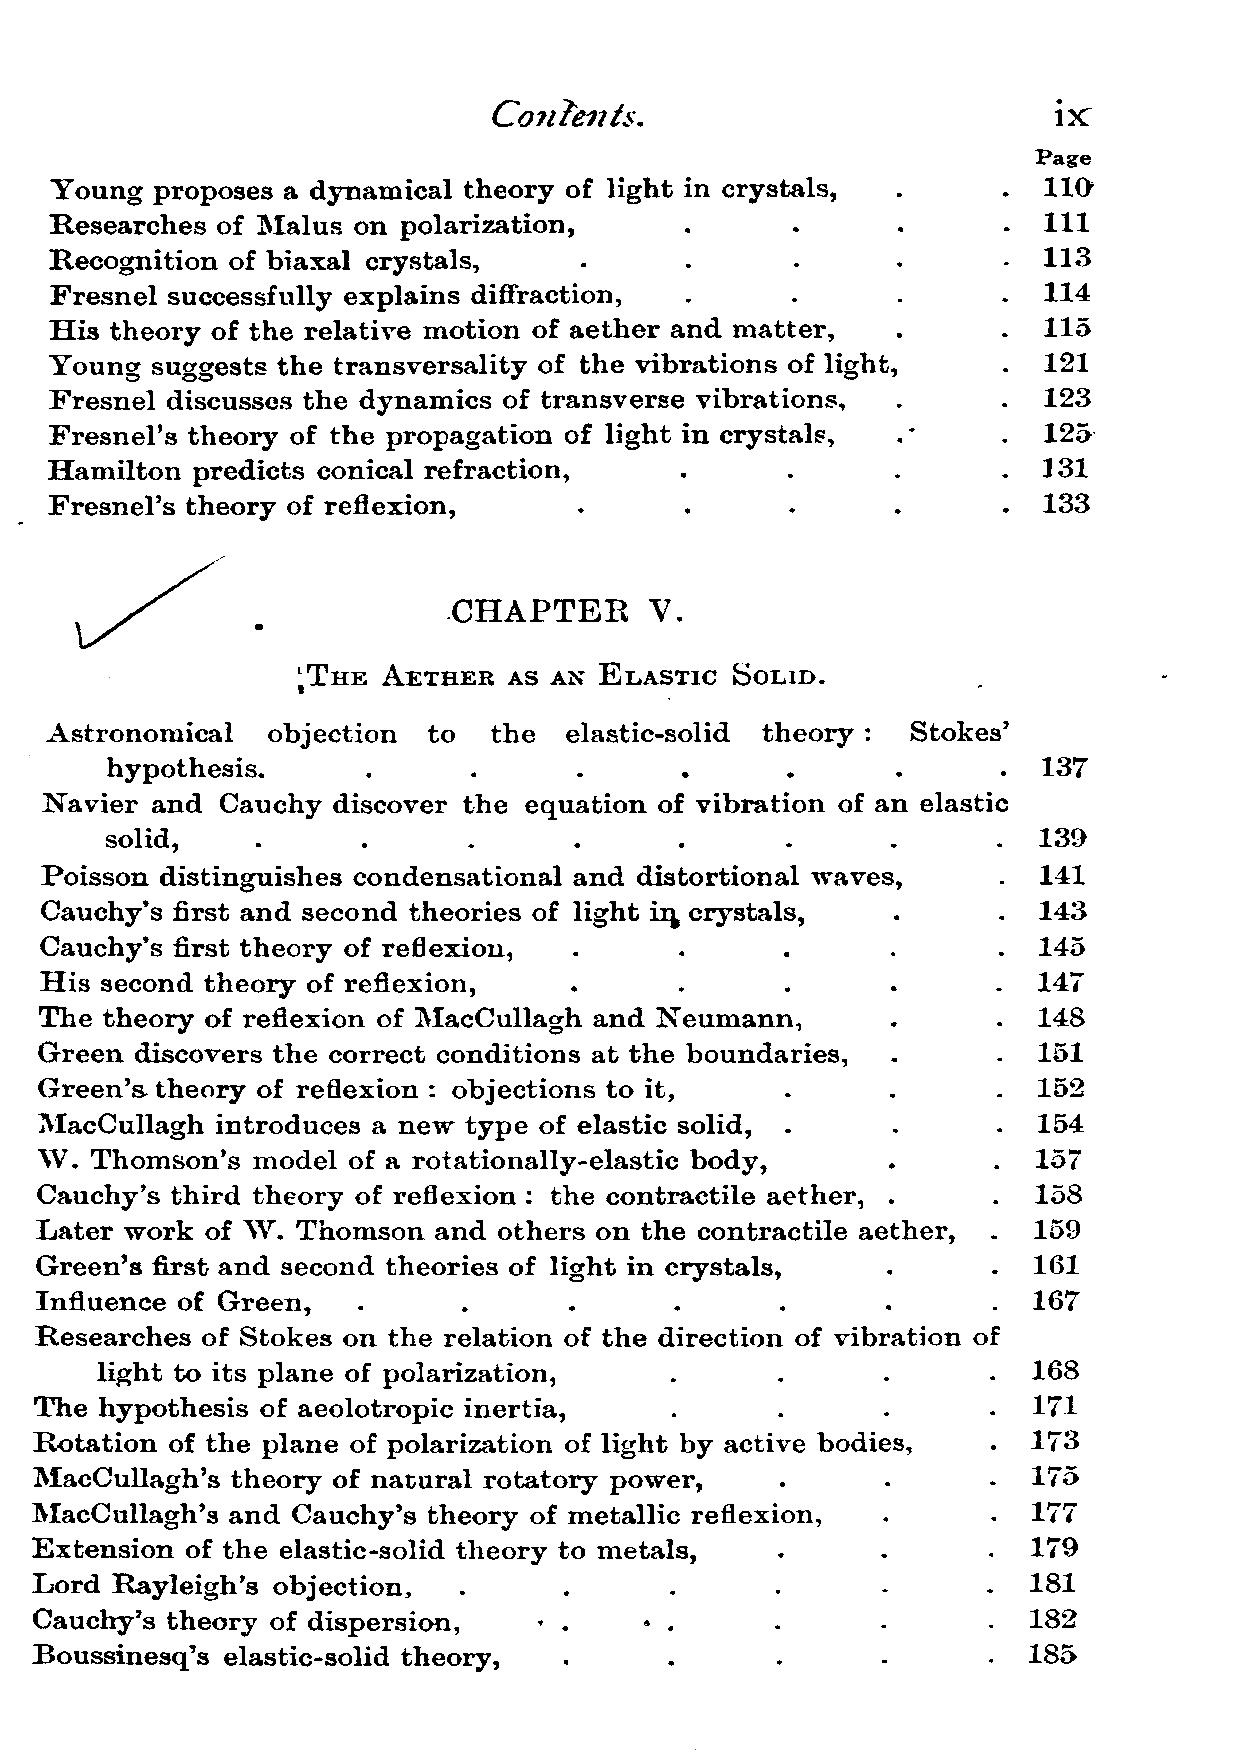TOC_chapter: (32, 1319, 1005, 1388), (39, 788, 1012, 851), (46, 717, 1015, 780), (305, 582, 832, 688), (32, 854, 906, 896), (46, 166, 837, 207), (30, 1427, 915, 1461), (30, 1496, 823, 1531), (32, 1037, 851, 1071), (35, 1219, 957, 1248), (39, 348, 899, 378), (32, 1245, 778, 1280), (38, 313, 837, 345), (34, 1145, 772, 1180), (34, 1181, 867, 1212), (32, 1107, 758, 1141), (35, 1002, 807, 1033), (24, 1533, 703, 1567), (46, 420, 837, 450), (44, 386, 851, 415), (36, 900, 809, 929), (30, 1388, 570, 1427), (28, 1463, 707, 1494), (31, 1074, 675, 1104), (43, 278, 633, 309), (42, 208, 578, 242), (31, 1640, 505, 1675), (46, 452, 573, 483), (35, 931, 513, 962), (46, 488, 459, 522), (34, 965, 480, 996), (46, 244, 480, 275), (30, 1606, 464, 1637), (27, 1571, 413, 1600), (31, 1286, 315, 1317)
TOC_pagenumber: (1040, 745, 1088, 786), (1024, 1563, 1076, 1598), (1036, 168, 1095, 199), (1033, 1070, 1086, 1103), (1023, 1496, 1082, 1526), (1028, 1249, 1083, 1280), (1041, 416, 1094, 448), (1041, 204, 1091, 238), (1028, 1213, 1084, 1243), (1027, 1600, 1078, 1632), (1037, 382, 1095, 411), (1036, 892, 1088, 923), (1039, 820, 1088, 852), (1031, 1287, 1084, 1317), (1033, 1142, 1084, 1173), (1040, 450, 1088, 482), (1040, 244, 1095, 272), (1039, 311, 1094, 340), (1029, 1425, 1082, 1455), (1040, 276, 1094, 305), (1035, 1002, 1091, 1029), (1041, 488, 1092, 518), (1041, 344, 1090, 374), (1036, 964, 1084, 994), (1033, 1354, 1082, 1385), (1027, 1533, 1082, 1559), (1035, 860, 1086, 888), (1029, 1389, 1078, 1418), (1027, 1461, 1082, 1487), (1036, 1108, 1082, 1138), (1033, 1180, 1084, 1205), (1028, 1643, 1078, 1668), (1036, 1037, 1086, 1062), (1040, 931, 1084, 957)
chapter: (479, 93, 655, 136)
content_pagenumber: (1049, 91, 1092, 130)
